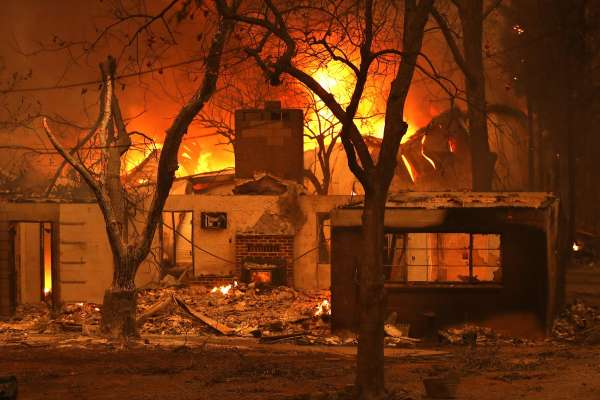Fire: (176, 145, 232, 171), (315, 64, 351, 95), (42, 223, 52, 304), (311, 297, 332, 320), (209, 281, 235, 297)
